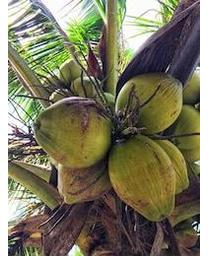coconut: (108, 135, 178, 223), (33, 95, 114, 166), (112, 73, 186, 136)
